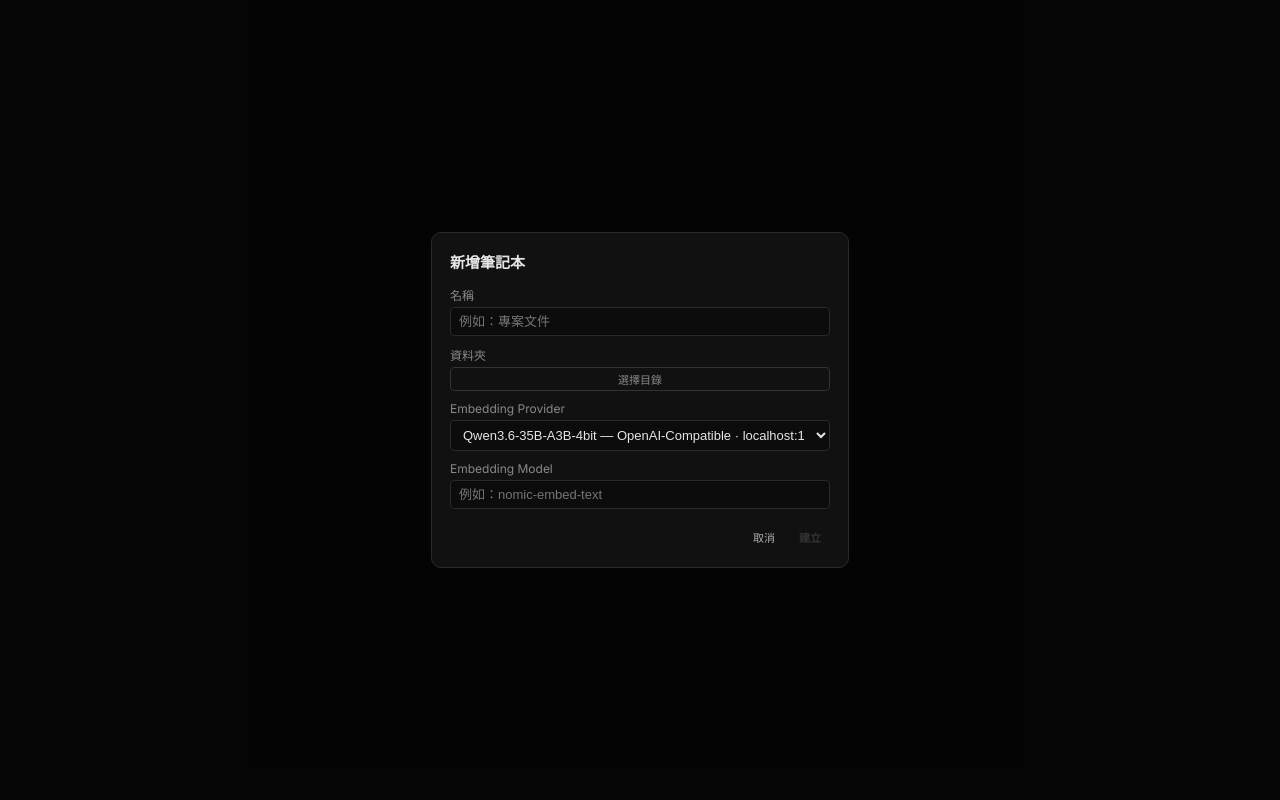
Test case: NotebookCreateDialog model list › warns when the typed model does not look like an embedding model
In the field with placeholder "例如：nomic-embed-text": (640, 494) [450,480,830,509], type "Qwen3.6-35B-A3B-4bit"
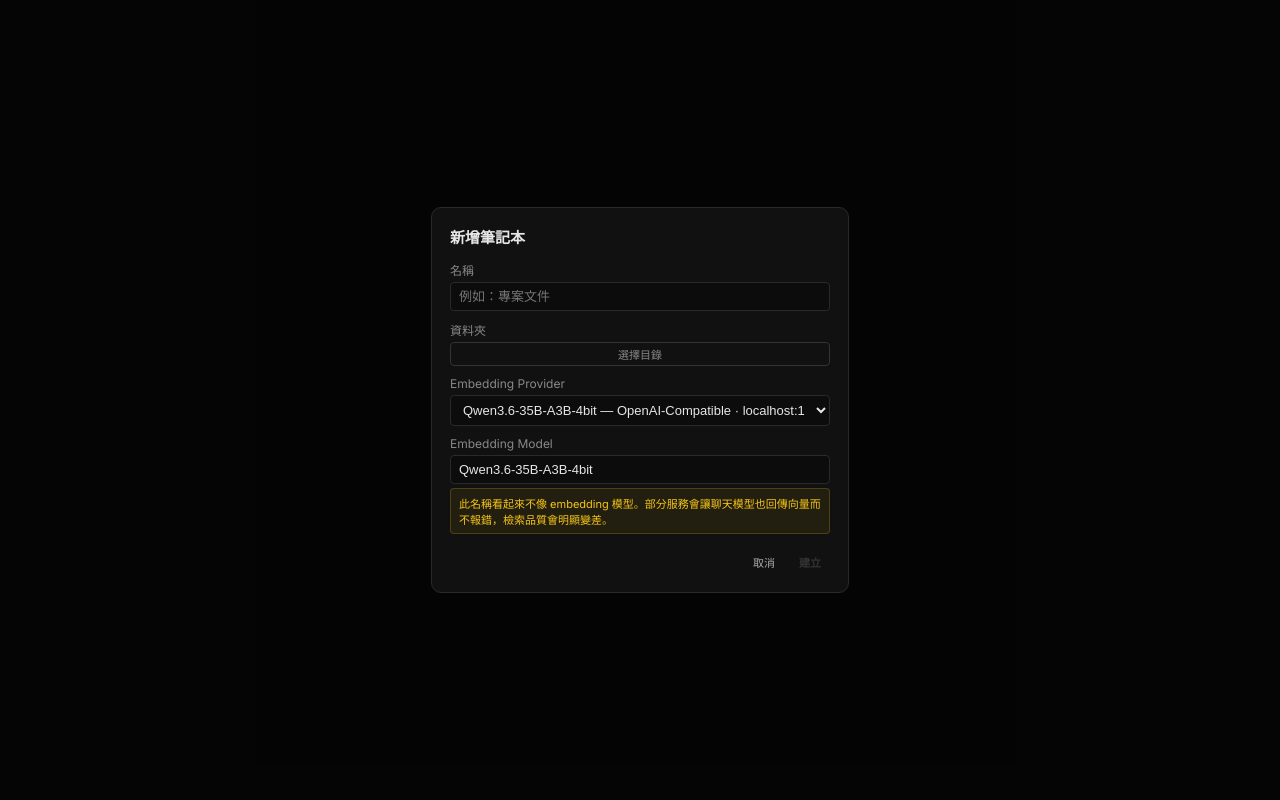
Now the text "此名稱看起來不像 embedding 模型。部分服務會讓聊天模型也回傳向量而不報錯，檢索品質會明顯變差。" is shown, box [450,488,830,534]
